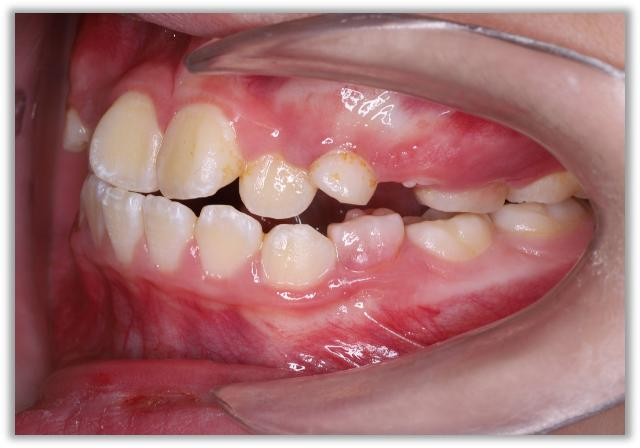canine class I: (194, 146, 338, 294)
molar class I: (408, 181, 512, 265)
